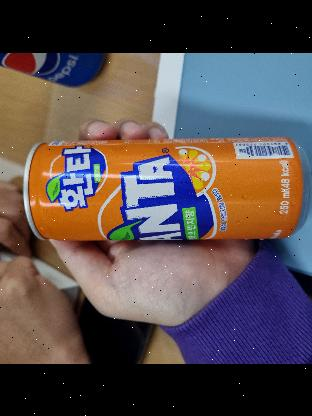Can: (25, 117, 312, 243)
